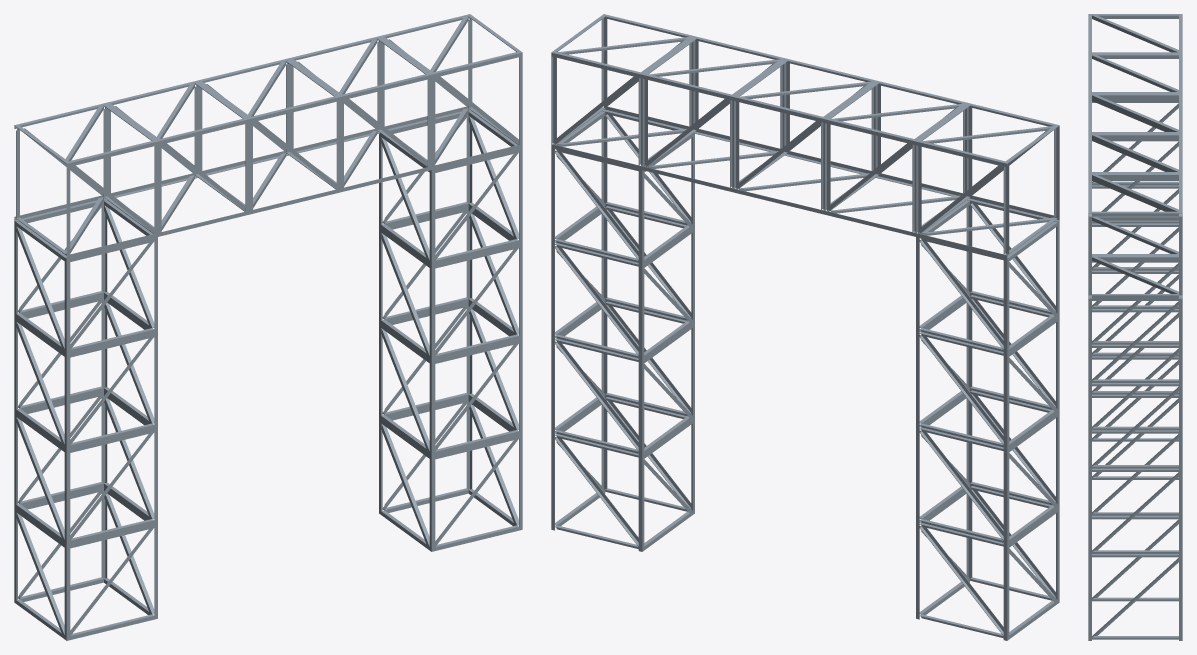
The model's file is truss_material_merged.glb.
The picture shows the model from 3 angles, left to right: view 1: azimuth 30°, elevation 25°; view 2: azimuth 150°, elevation 25°; view 3: azimuth 270°, elevation 25°; orthographic projection. The views are drawn at different scales.
Visible parts, largest first — view 1: square_truss; view 2: square_truss; view 3: square_truss.
Boxes of the visible parts, x1=… form: square_truss: x1=14, y1=14, x2=522, y2=640; square_truss: x1=551, y1=14, x2=1059, y2=640; square_truss: x1=1088, y1=14, x2=1182, y2=640.
Size of the model in its own units: 5 by 5 by 1.
